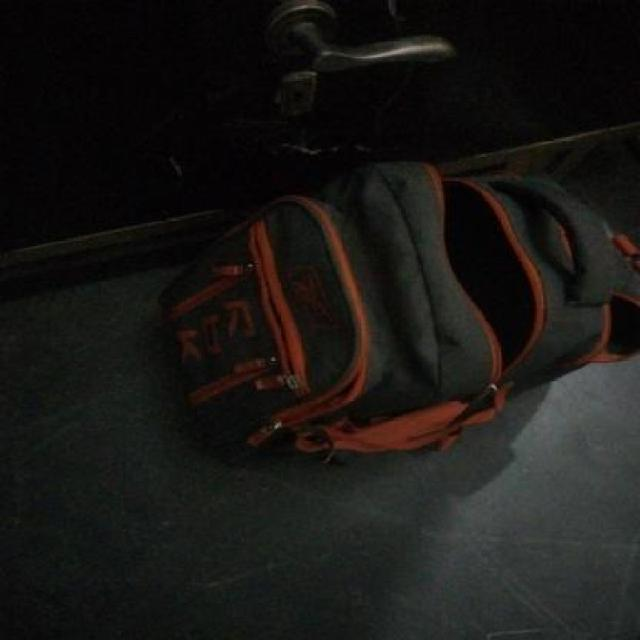backpack: (147, 152, 640, 472)
